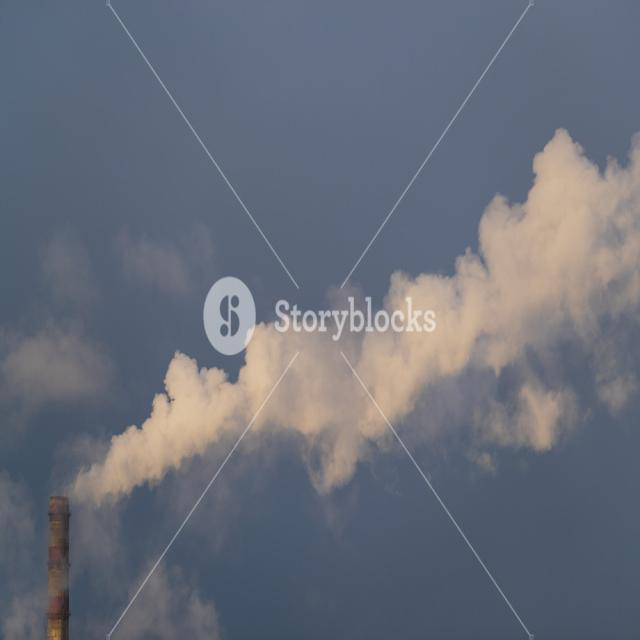Smoke: (70, 124, 640, 510)
